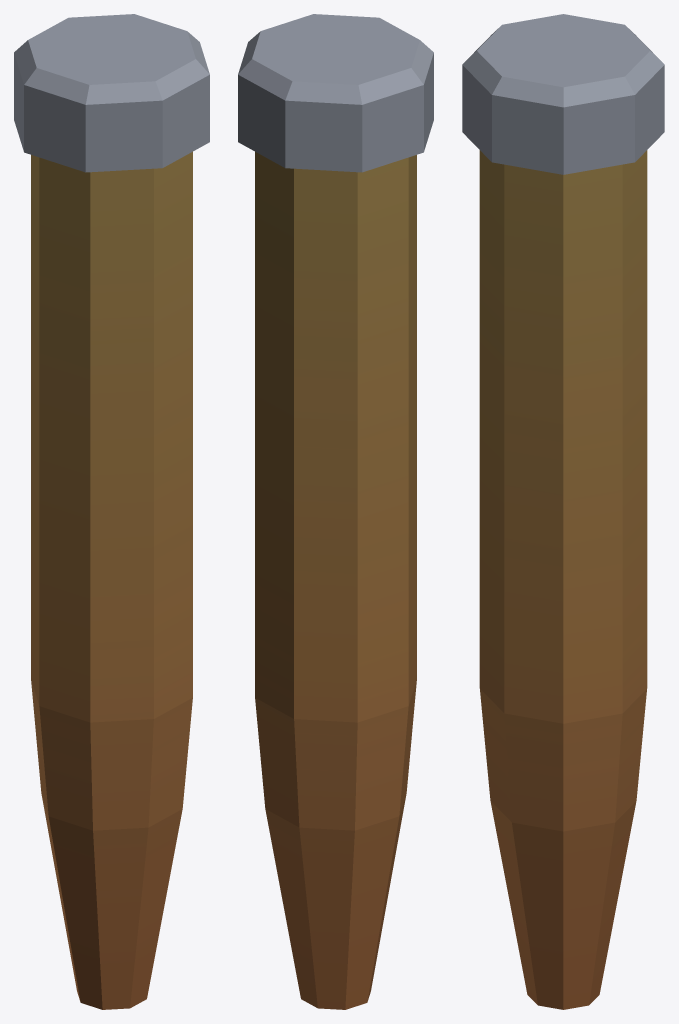
The model's file is SM_Props_Laboratory_13.fbx.
3 renders of one model, left to right at view 1: azimuth 30°, elevation 25°; view 2: azimuth 150°, elevation 25°; view 3: azimuth 270°, elevation 25°, orthographic.
Parts seen in each view (by area): view 1: SM_Props_Laboratory_13; view 2: SM_Props_Laboratory_13; view 3: SM_Props_Laboratory_13.
Boxes of the visible parts, <box> form: SM_Props_Laboratory_13: <box>14,14,209,1009</box>; SM_Props_Laboratory_13: <box>238,14,433,1009</box>; SM_Props_Laboratory_13: <box>462,14,664,1009</box>.
Bounding box in the file's own units: 0.0339 × 0.1745 × 0.0339.
